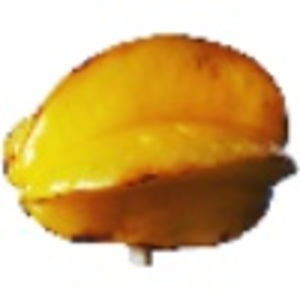carambola: (1, 32, 294, 268)
